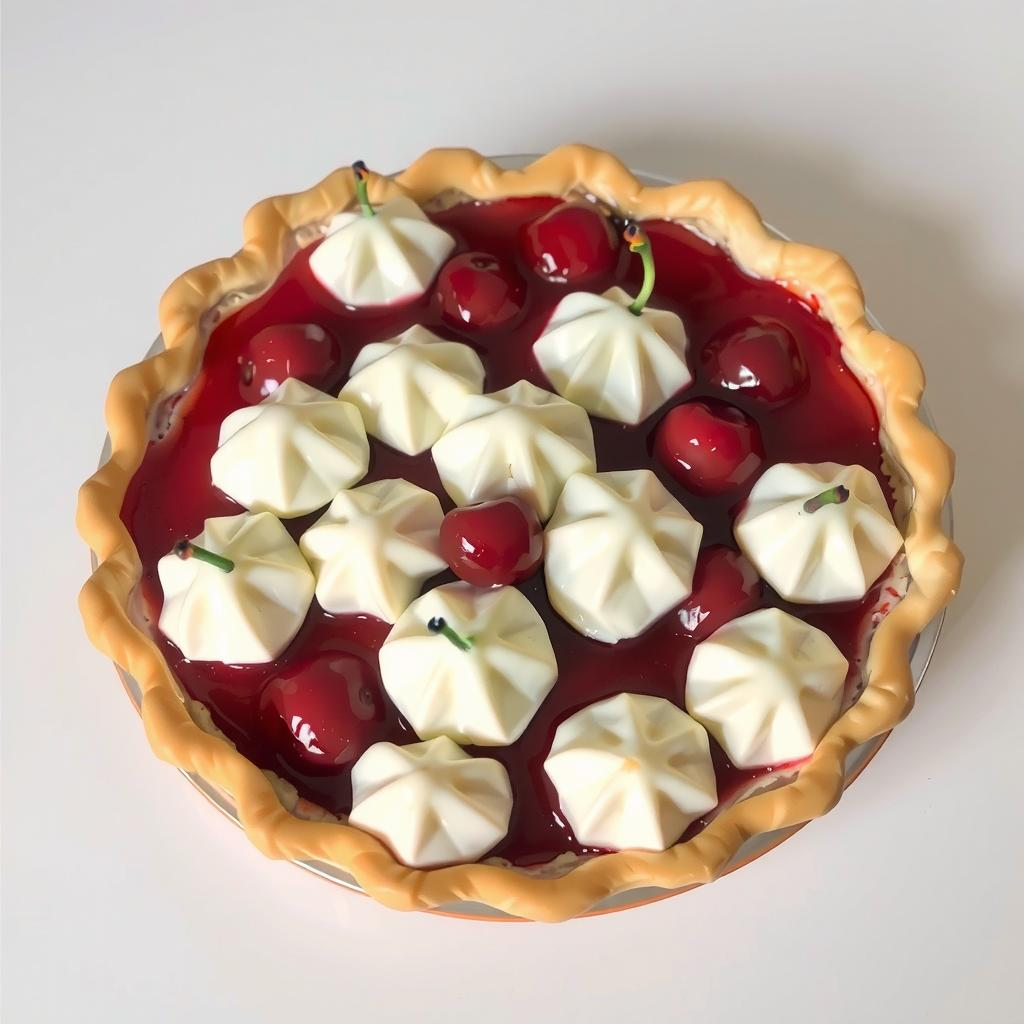pie: (69, 141, 973, 926)
